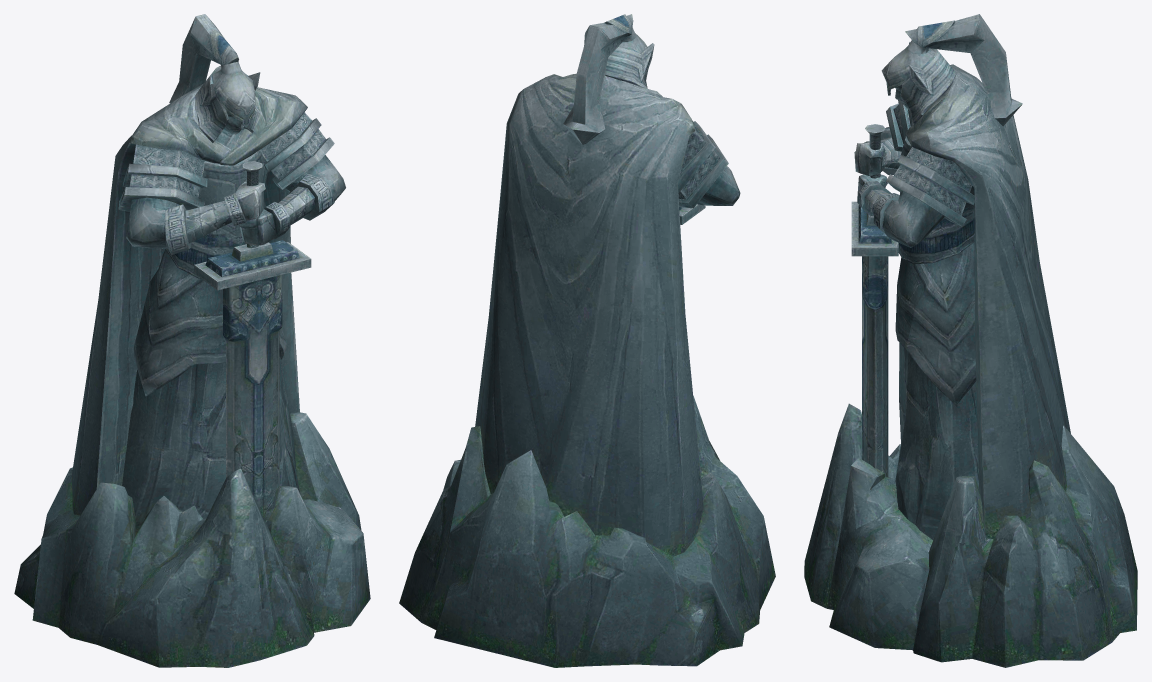
3 renders of one model, left to right at view 1: azimuth 30°, elevation 25°; view 2: azimuth 150°, elevation 25°; view 3: azimuth 270°, elevation 25°, orthographic.
Parts seen in each view (by area): view 1: MC_M_10008; view 2: MC_M_10008; view 3: MC_M_10008.
Boxes of the visible parts, left/top/right/bottom form: MC_M_10008: left=14, top=14, right=370, bottom=667; MC_M_10008: left=399, top=14, right=775, bottom=667; MC_M_10008: left=804, top=14, right=1137, bottom=667.
Size of the model in its own units: 0.0192 by 0.0332 by 0.0175.
Materials: 1 (1 with a texture image).
